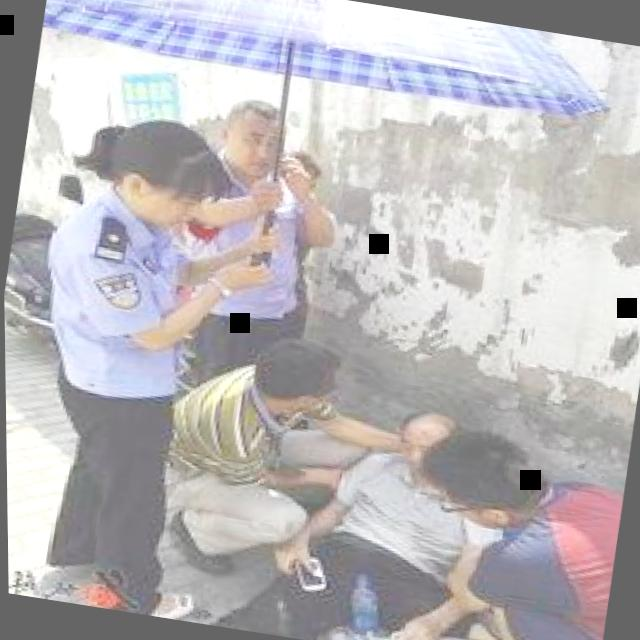Fall-Detected: (152, 362, 533, 640)
